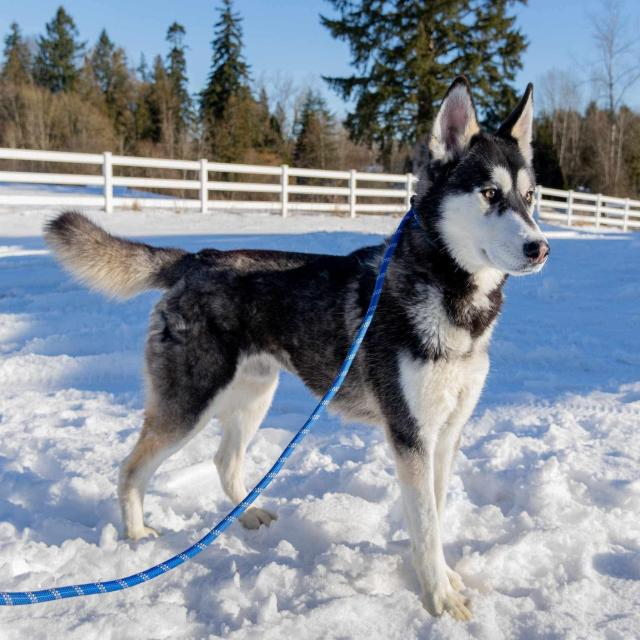siberian_husky_dog: (405, 72, 561, 306)
